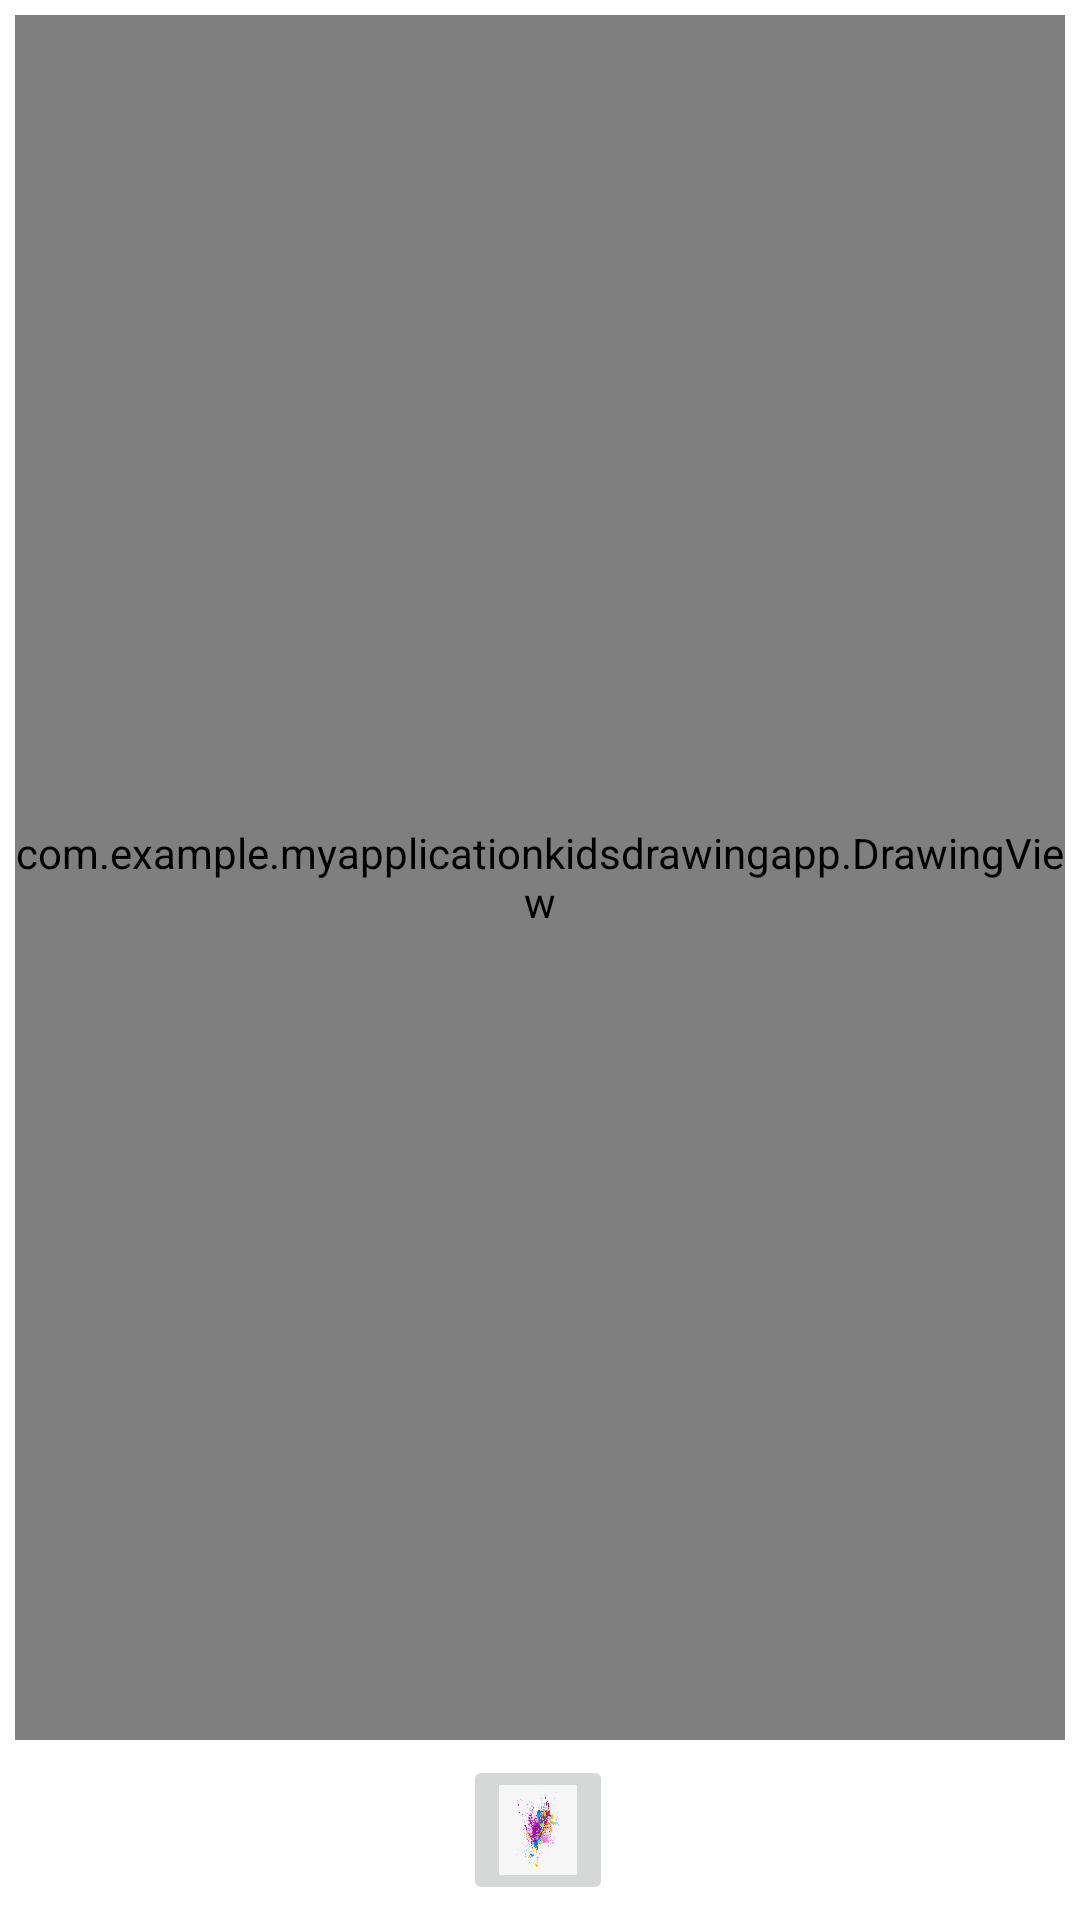

Icon bounding boxes for this 1080px×1920px phone screenshot, format (x1, y1, x2, y2):
brush image: (475, 1773, 601, 1887)
